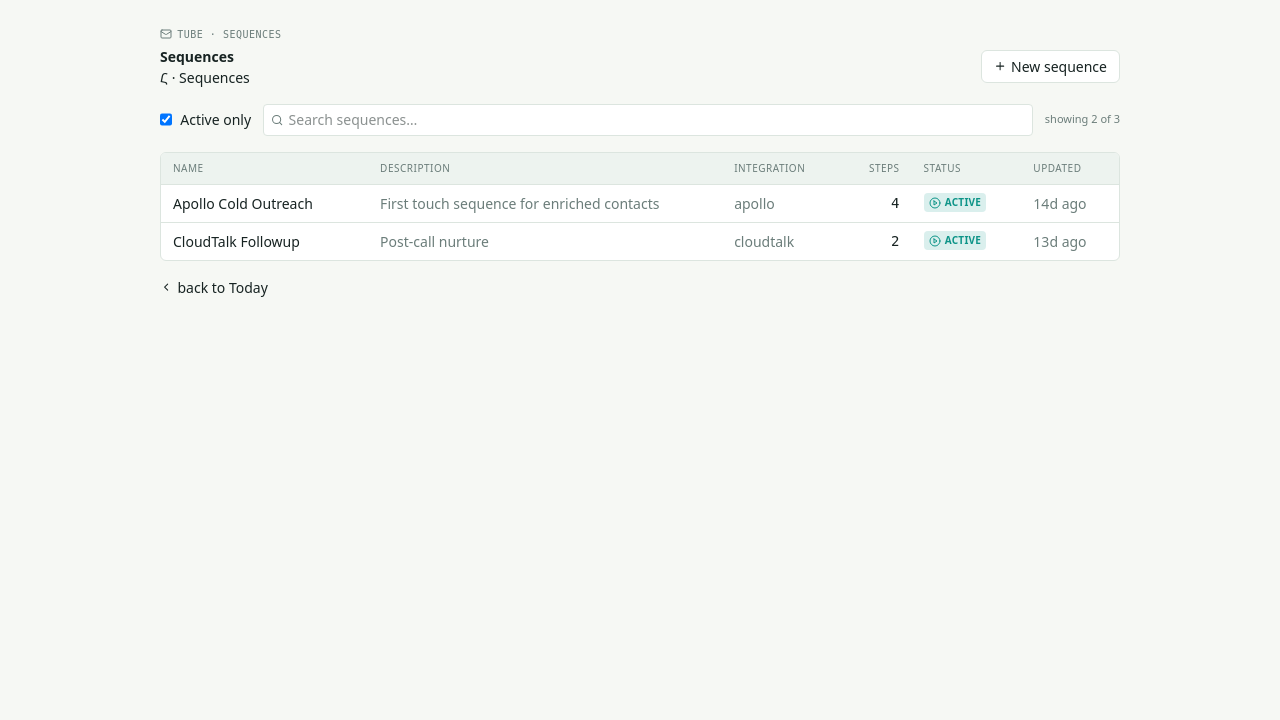
it: Sequences list — create form › renders a role='alert' error when postJson rejects
This screenshot has width=1280, height=720.
Click the button "New sequence".
click(1050, 67)  # box left=981, top=50, right=1120, bottom=83
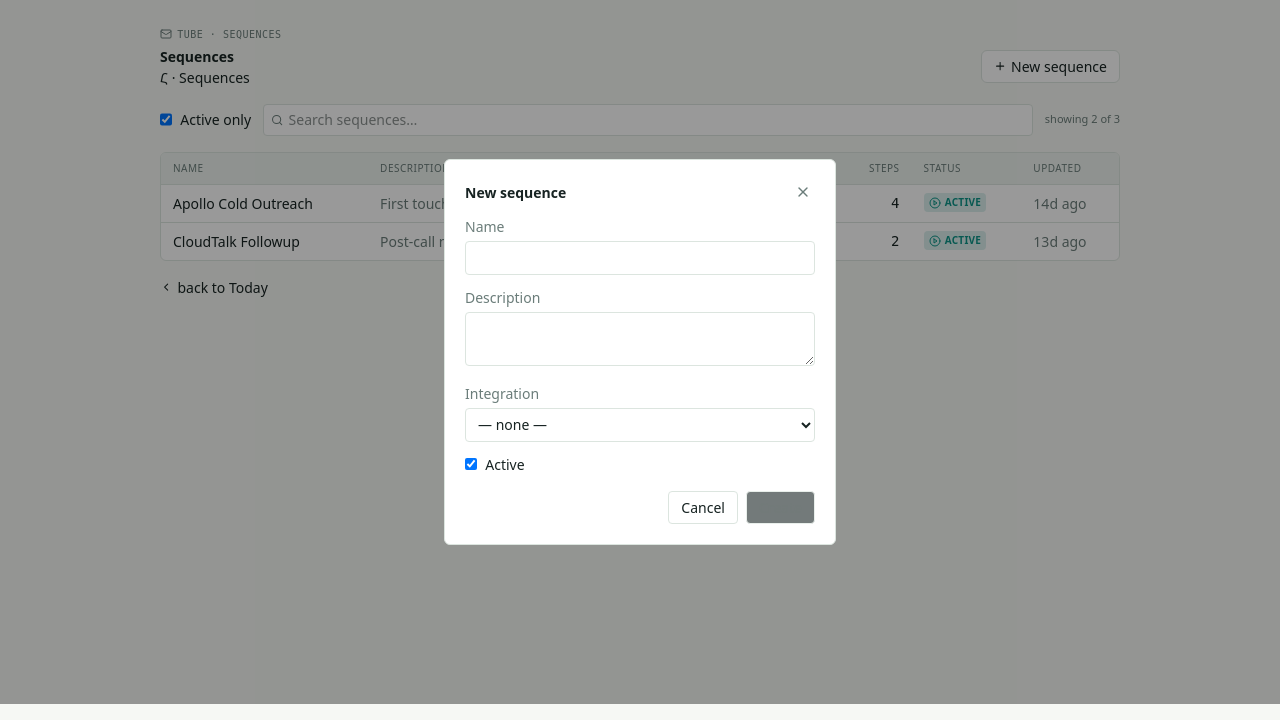
Type "Bad Sequence" into the field with test id "tube-sequence-name".
click(640, 258); type("Bad Sequence")  # box left=465, top=241, right=815, bottom=274
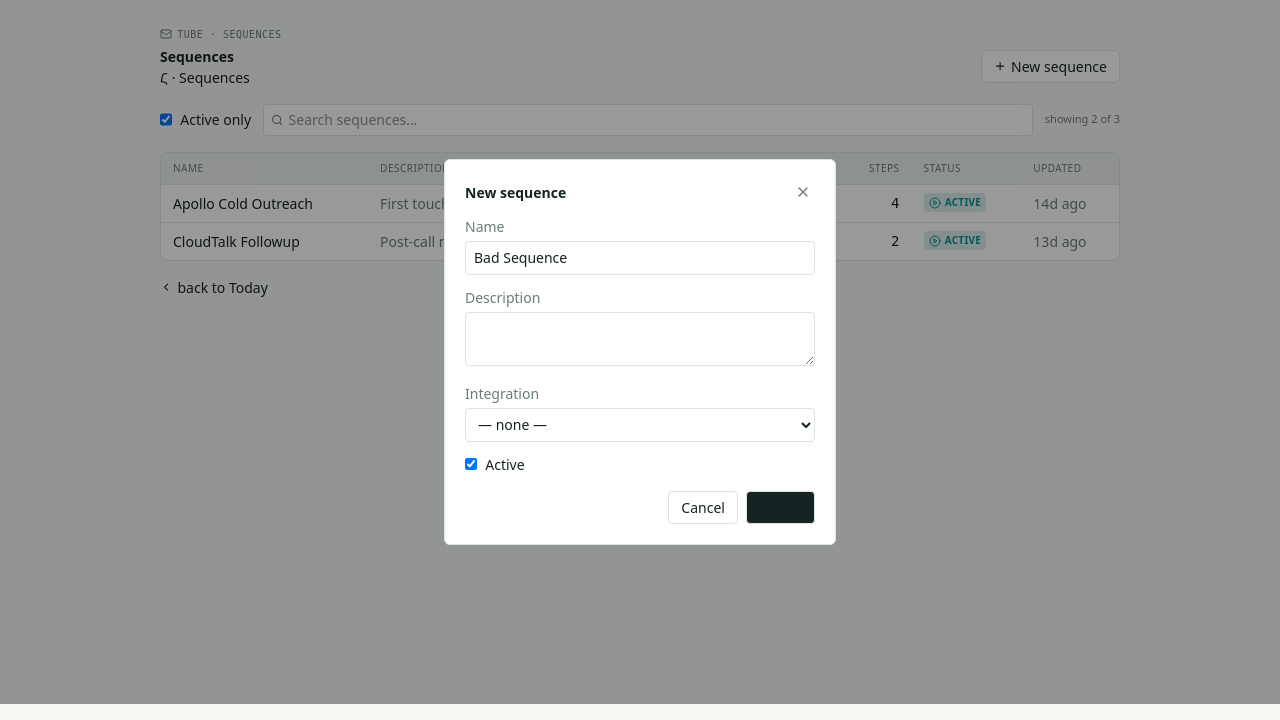
Click the button with test id "tube-sequence-submit".
click(780, 507)  # box left=746, top=490, right=815, bottom=524
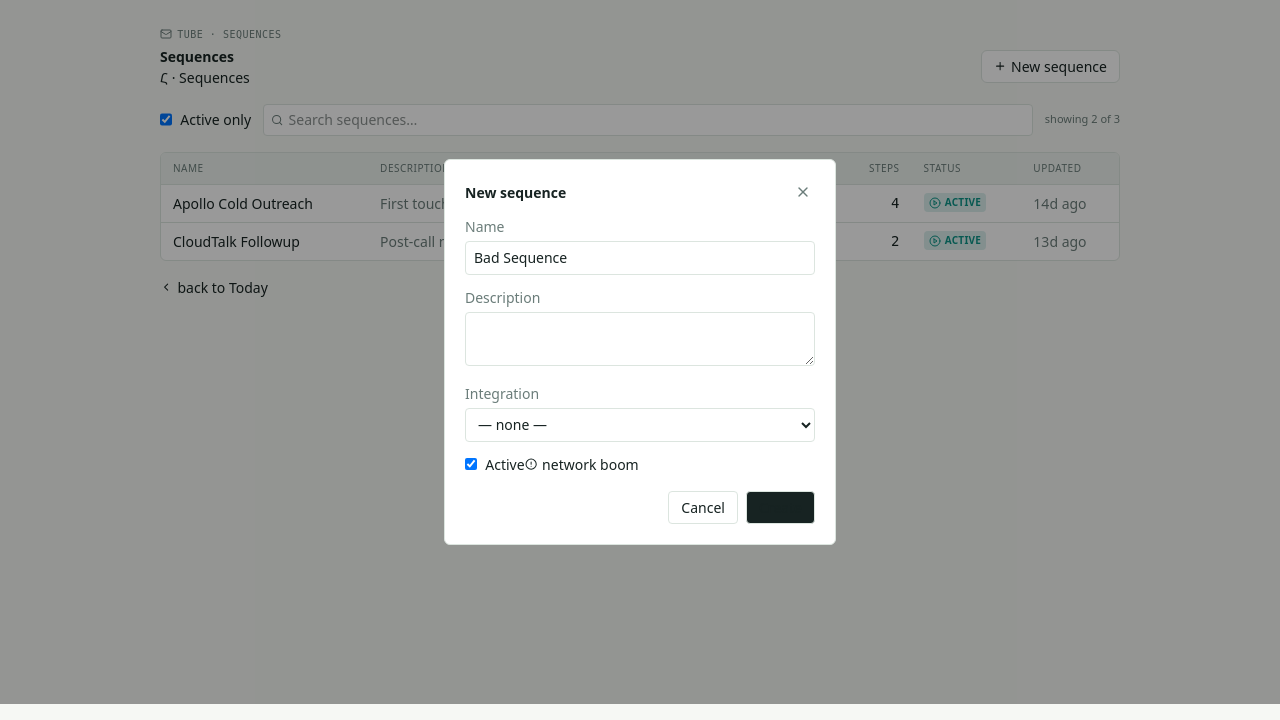
Result: the message reads "network boom" at left=542, top=454, right=639, bottom=474
